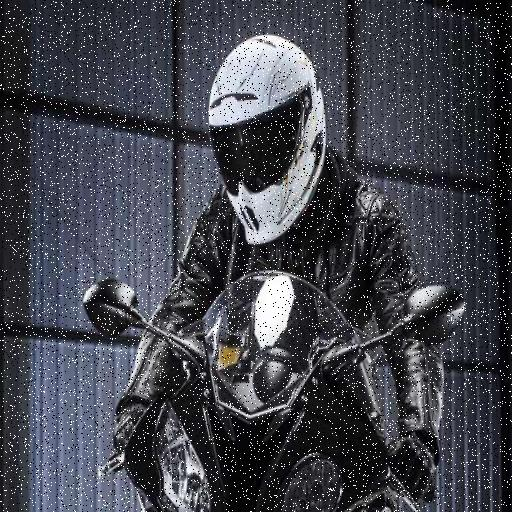Helmet: (209, 36, 325, 243)
Motor: (84, 272, 464, 511)
